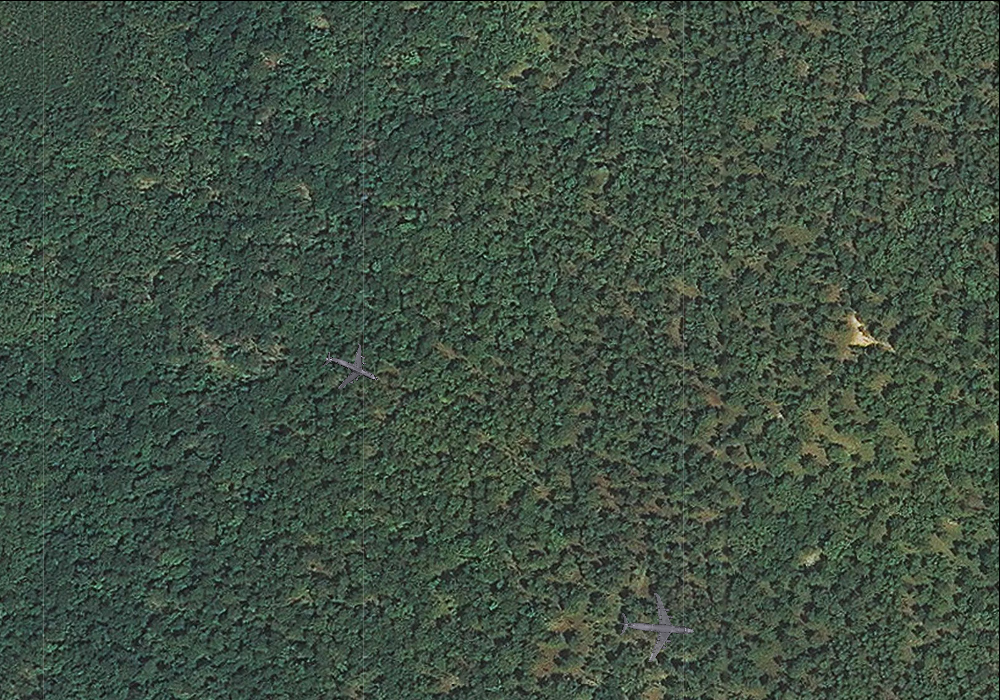plane: (616, 589, 697, 666), (313, 331, 388, 405)
